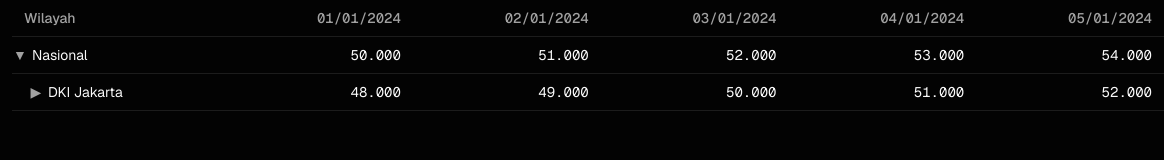
Test: GeografisTable › 2. toggle: click Nasional toggle → DKI Jakarta appears
The width and height of the screenshot is (1164, 160).
Expected: the text "DKI Jakarta" is shown, [48,82,123,102]
Now collapse by clicking toggle
Click the button named "nasional" at (20, 55), box [12,47,28,63]
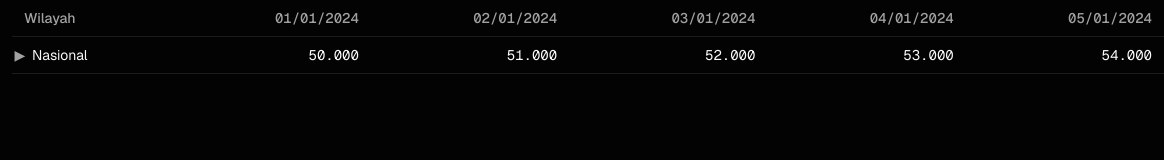
Result: the text "DKI Jakarta" is gone
